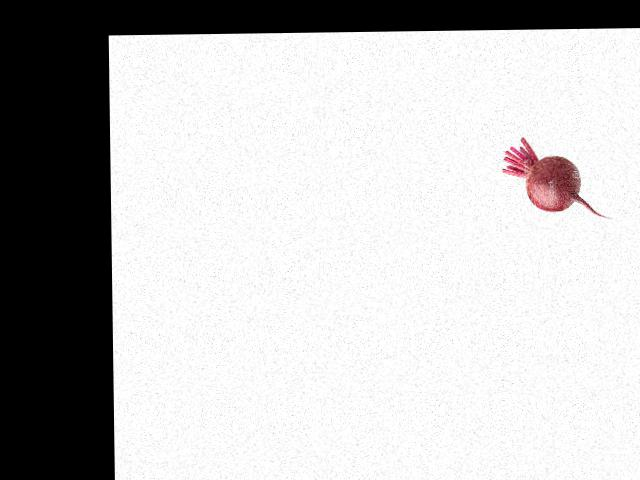beet: (501, 136, 607, 220)
